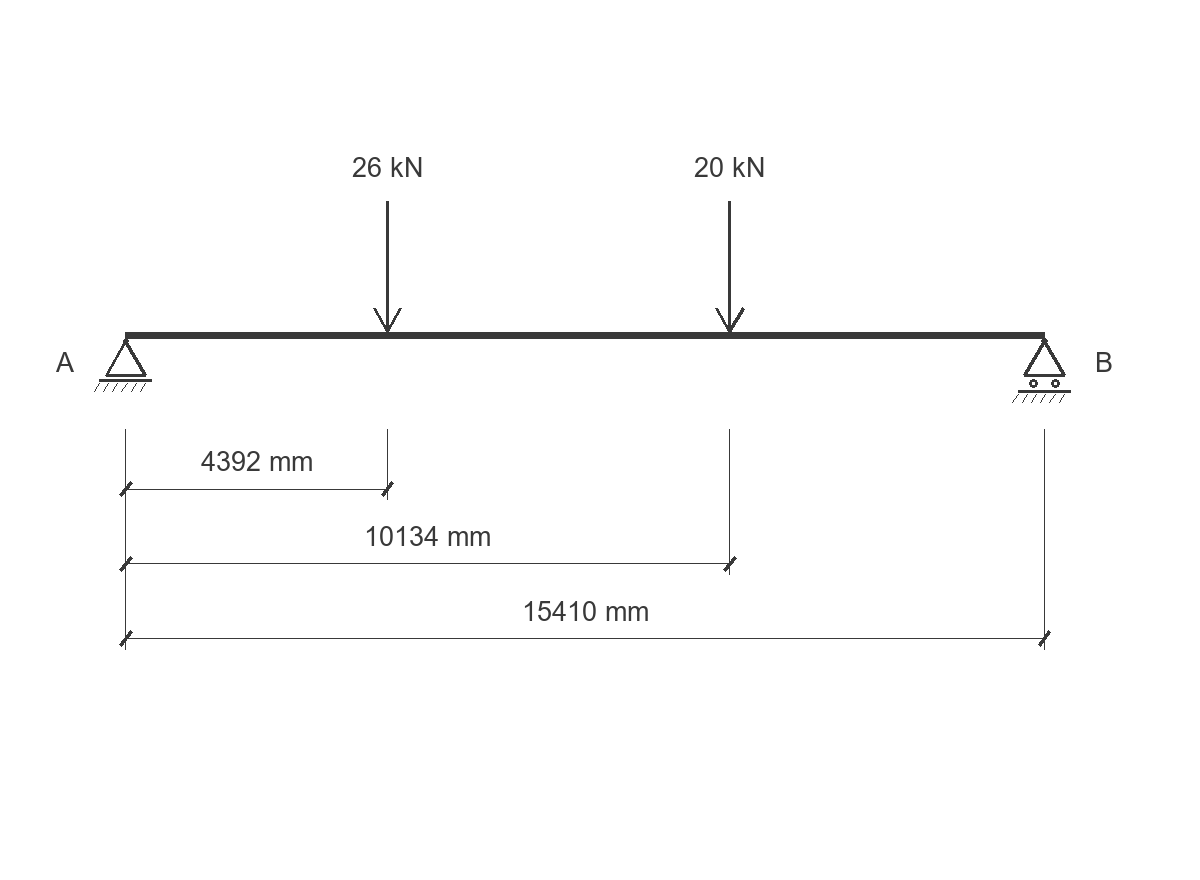pin_support: (94, 338, 152, 392)
point_load: (715, 201, 745, 333), (373, 201, 402, 332)
roller_support: (1012, 338, 1071, 403)
